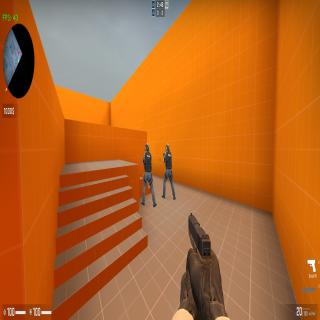CT-Body: (141, 151, 155, 207), (162, 151, 176, 200)
CT-Head: (144, 142, 150, 154), (165, 143, 170, 154)
